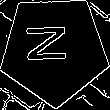N_E: (29, 29, 80, 71)
